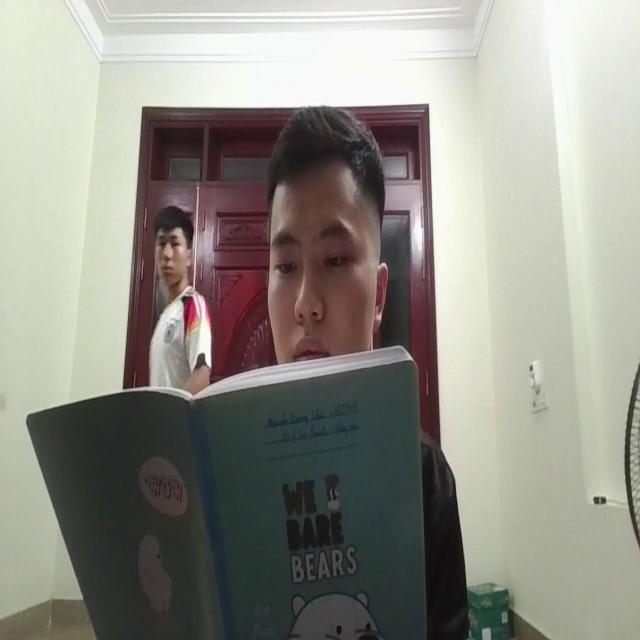book: (31, 364, 422, 640)
extra_person: (143, 207, 205, 393)
student: (268, 98, 389, 366)
